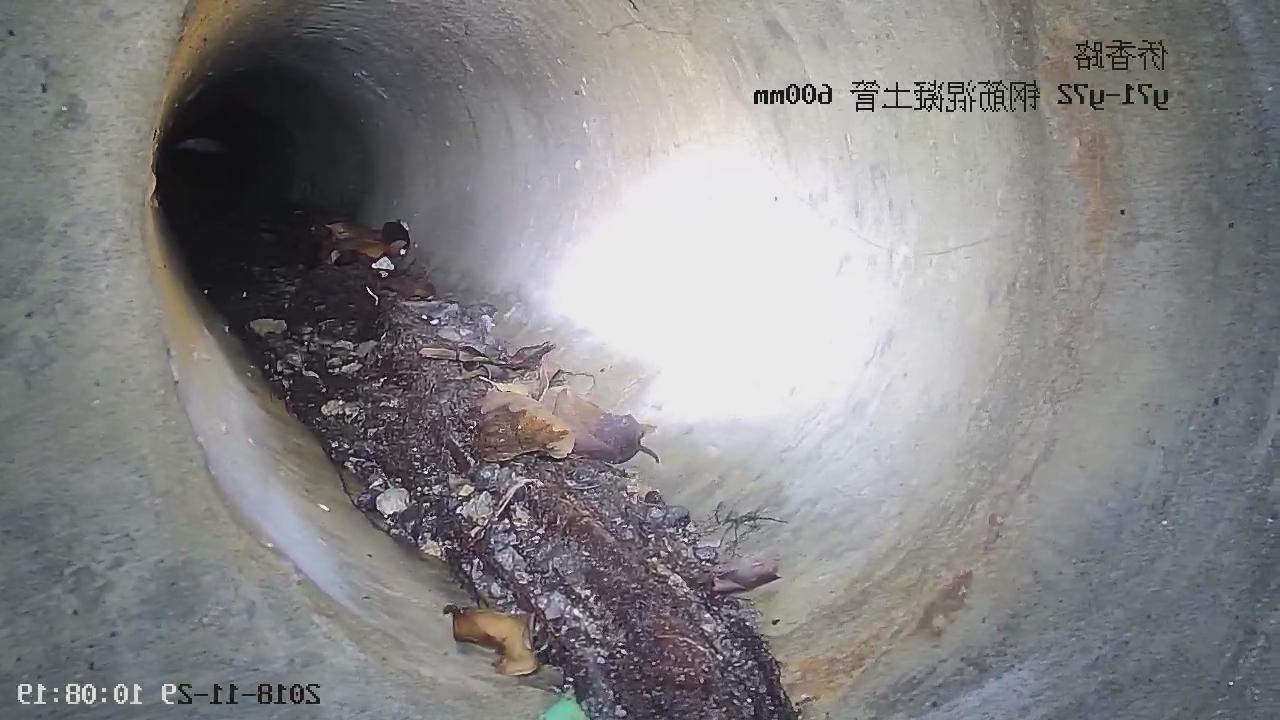CJ: (253, 222, 800, 719)
